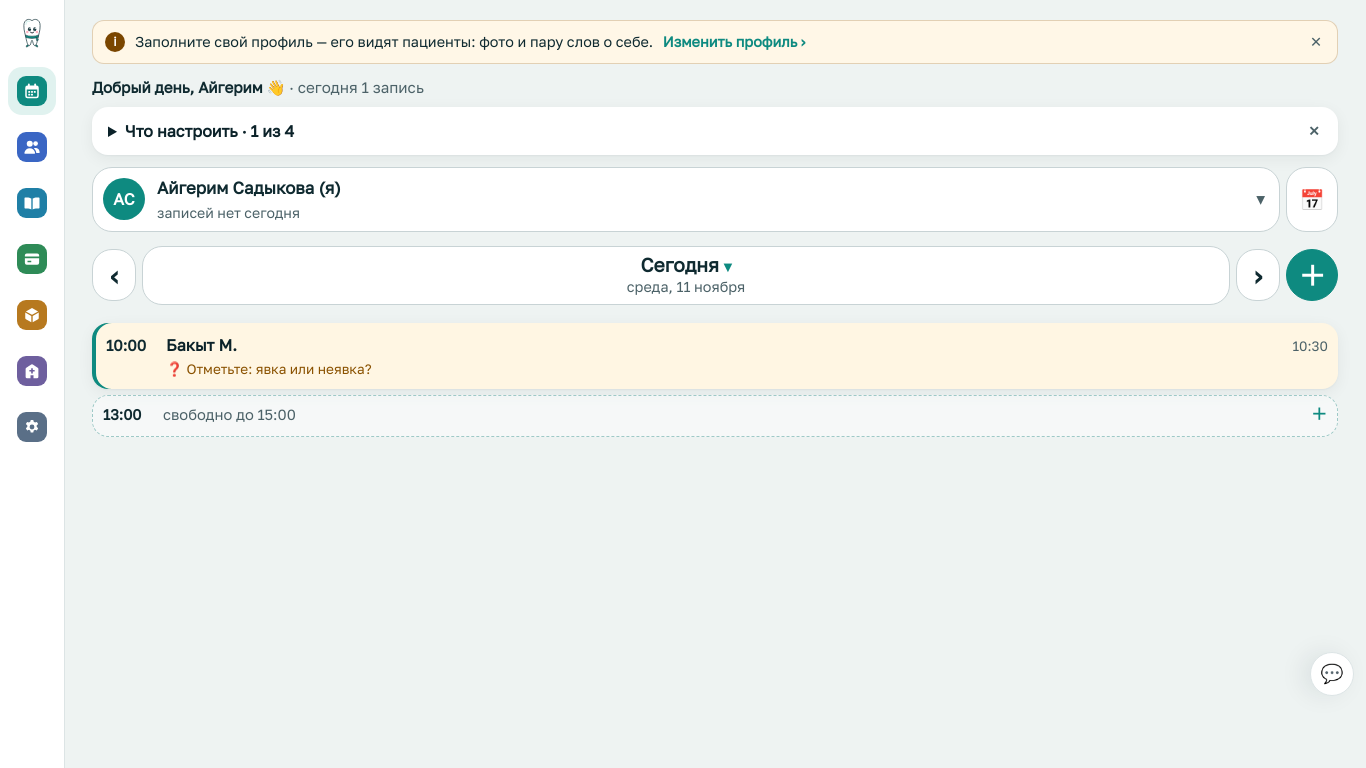
Test: телефон: вместо ленты — один день; стрелка — «Завтра», «Сегодня» — назад
Expected: the text "Сегодня" is shown, [640,253,719,276]
Click the button named "Следующий день" at x=1258, y=275, box [1236,249,1280,301]
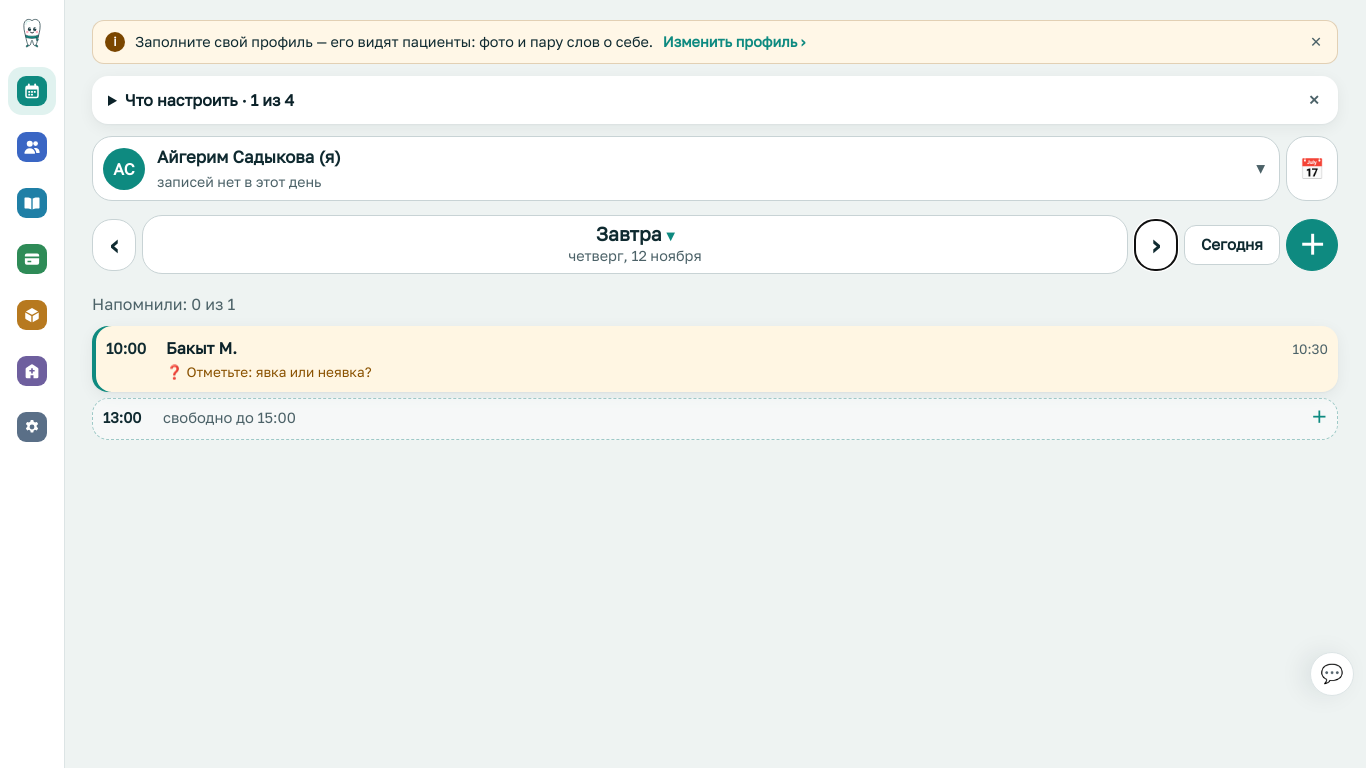
Now the text "Завтра" is shown, box [596,222,662,245]
Click the button "Сегодня" at x=1232, y=245, box [1184,225,1280,265]
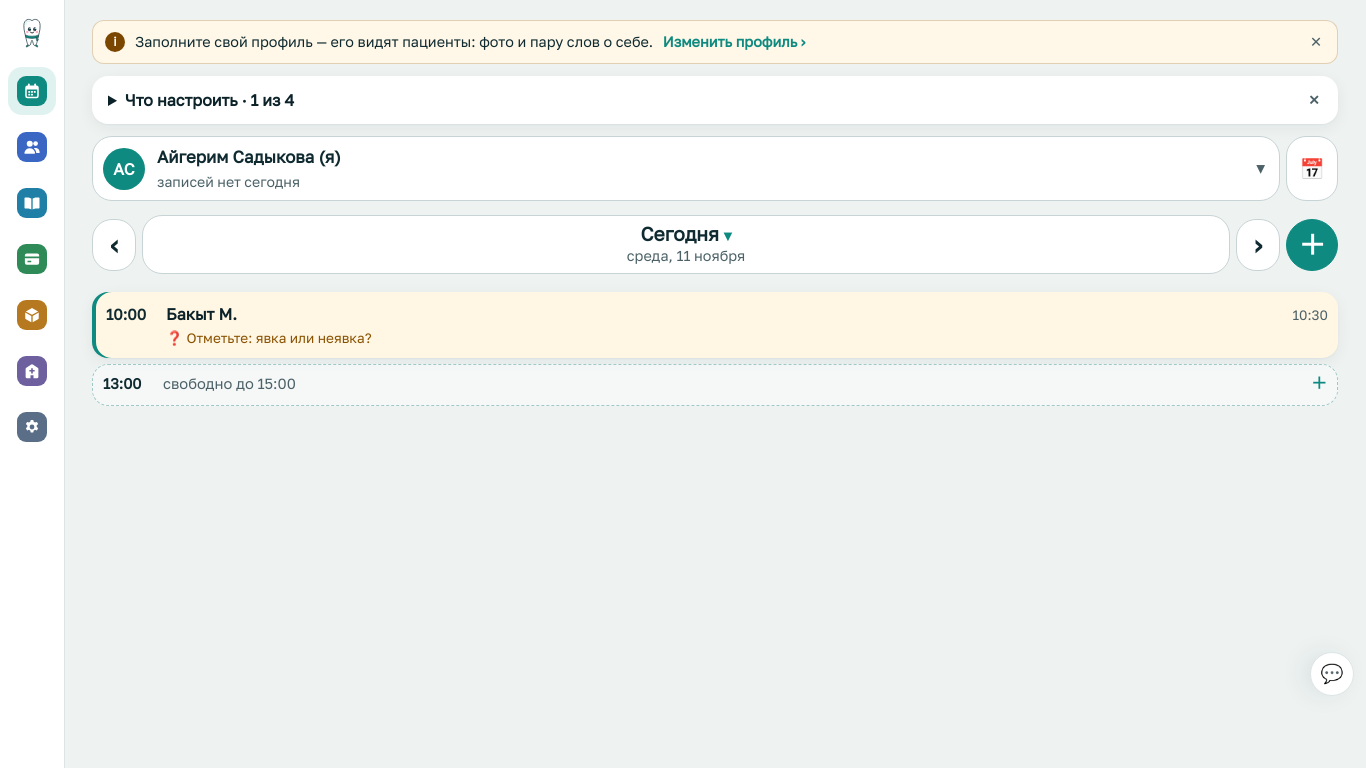
Now the text "Сегодня" is shown, box [640,222,719,245]
